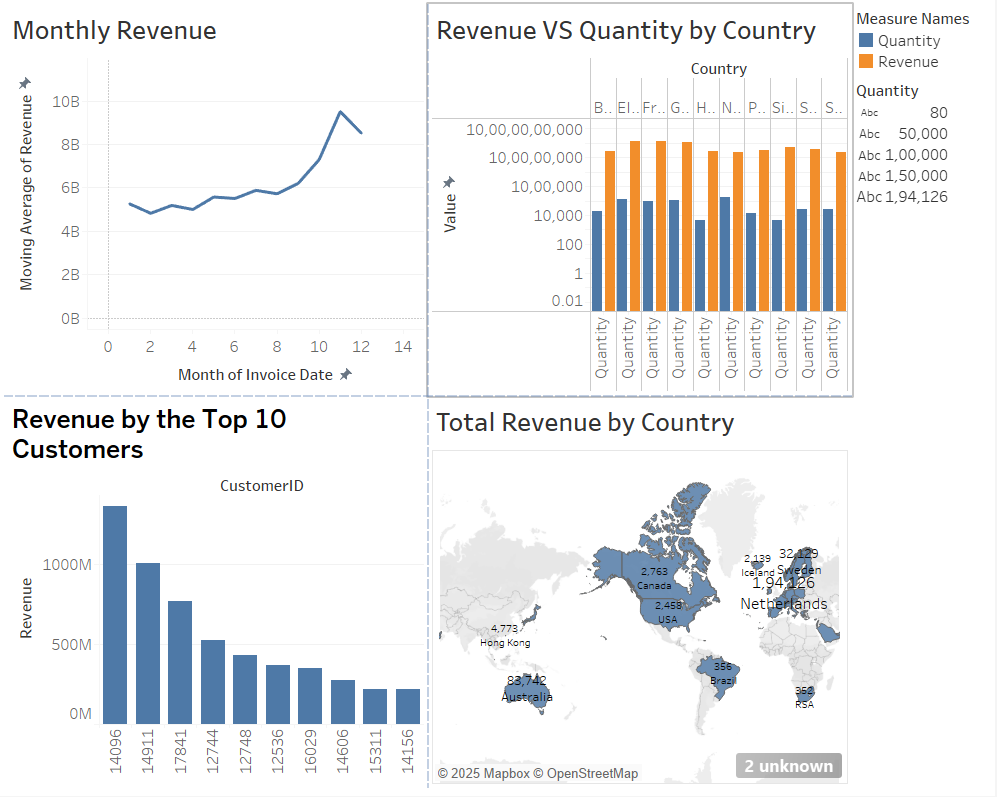

Layout of this report page (visuals, bound fields, positions):
{"tool":"tableau","page":{"name":"Dashboard 1","canvas":[1000,800],"ordinal":0},"visuals":[{"type":"worksheet","title":"Sheet 1","mark":"Automatic","rows":["Revenue"],"cols":["InvoiceDate"],"box":[8,8,424,392]},{"type":"worksheet","title":"Sheet 2","mark":"Automatic","cols":["Country"],"box":[432,8,424,392]},{"type":"legend","title":"Sheet 2","param":"[federated.1d8pozz0bekaak1cfftq61acdy2s].[:Measure Names]","box":[856,8,136,72]},{"type":"legend","title":"Sheet 4","param":"[federated.1d8pozz0bekaak1cfftq61acdy2s].[sum:Quantity:qk]","box":[856,80,136,135]},{"type":"worksheet","title":"Sheet 3","mark":"Automatic","rows":["Revenue"],"cols":["CustomerID"],"box":[8,400,424,392]},{"type":"worksheet","title":"Sheet 4","mark":"Multipolygon","box":[432,400,424,392]}]}

Visuals, with their boxes in screenshot pixels (x1, y1, x2, y2), scaled from the page's 1000x800 canvas onto the 997x797 screenshot:
"Sheet 1" worksheet: (8, 8, 431, 398)
"Sheet 2" worksheet: (431, 8, 853, 398)
"Sheet 2" legend: (853, 8, 989, 80)
"Sheet 4" legend: (853, 80, 989, 214)
"Sheet 3" worksheet: (8, 398, 431, 789)
"Sheet 4" worksheet (Multipolygon marks): (431, 398, 853, 789)
